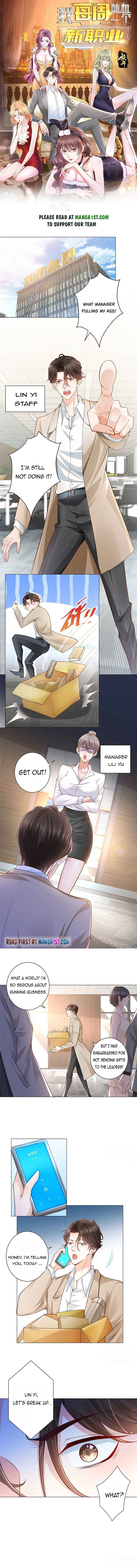bubbles: (8, 431, 60, 520), (72, 271, 125, 349), (7, 1360, 55, 1440), (4, 1229, 54, 1284), (6, 962, 50, 1012), (95, 1465, 131, 1522), (13, 751, 56, 794), (90, 1036, 128, 1081), (4, 384, 47, 413), (99, 744, 132, 775)
